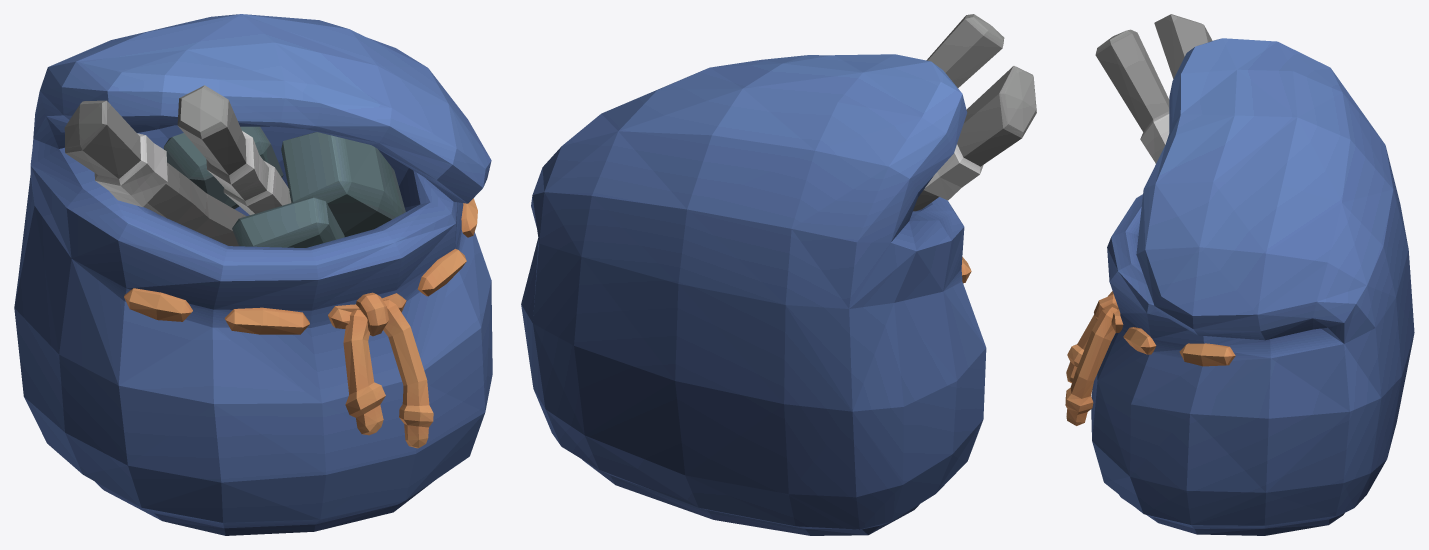
File: CharSkyKid_Prop_Balloon_01.glb
3 renders of one model, left to right at view 1: azimuth 30°, elevation 25°; view 2: azimuth 150°, elevation 25°; view 3: azimuth 270°, elevation 25°, orthographic. The views are drawn at different scales.
Parts seen in each view (by area): view 1: CharSkyKid_Prop_Balloon_01; view 2: CharSkyKid_Prop_Balloon_01; view 3: CharSkyKid_Prop_Balloon_01.
Part boxes in pixels (x1=…): CharSkyKid_Prop_Balloon_01: x1=14, y1=14, x2=492, y2=535; CharSkyKid_Prop_Balloon_01: x1=521, y1=14, x2=1036, y2=535; CharSkyKid_Prop_Balloon_01: x1=1065, y1=14, x2=1414, y2=535.
Size of the model in its own units: 3.68 by 3.8 by 3.
Materials: 1 (1 with a texture image).
